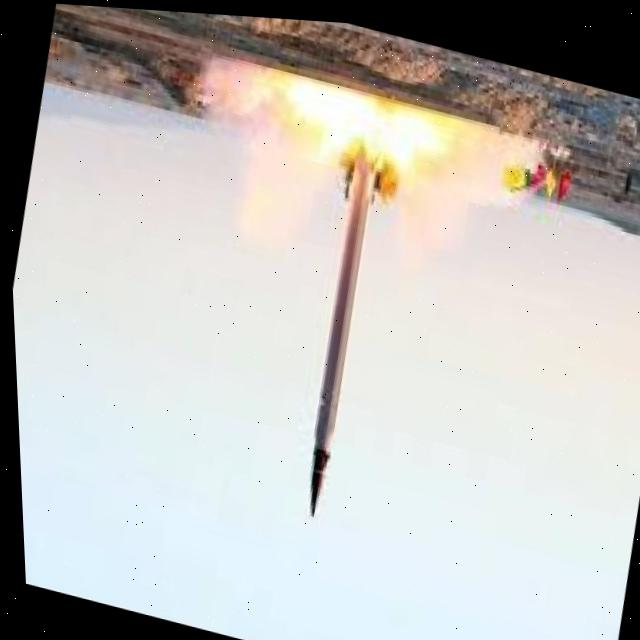missile: (264, 110, 421, 529)
